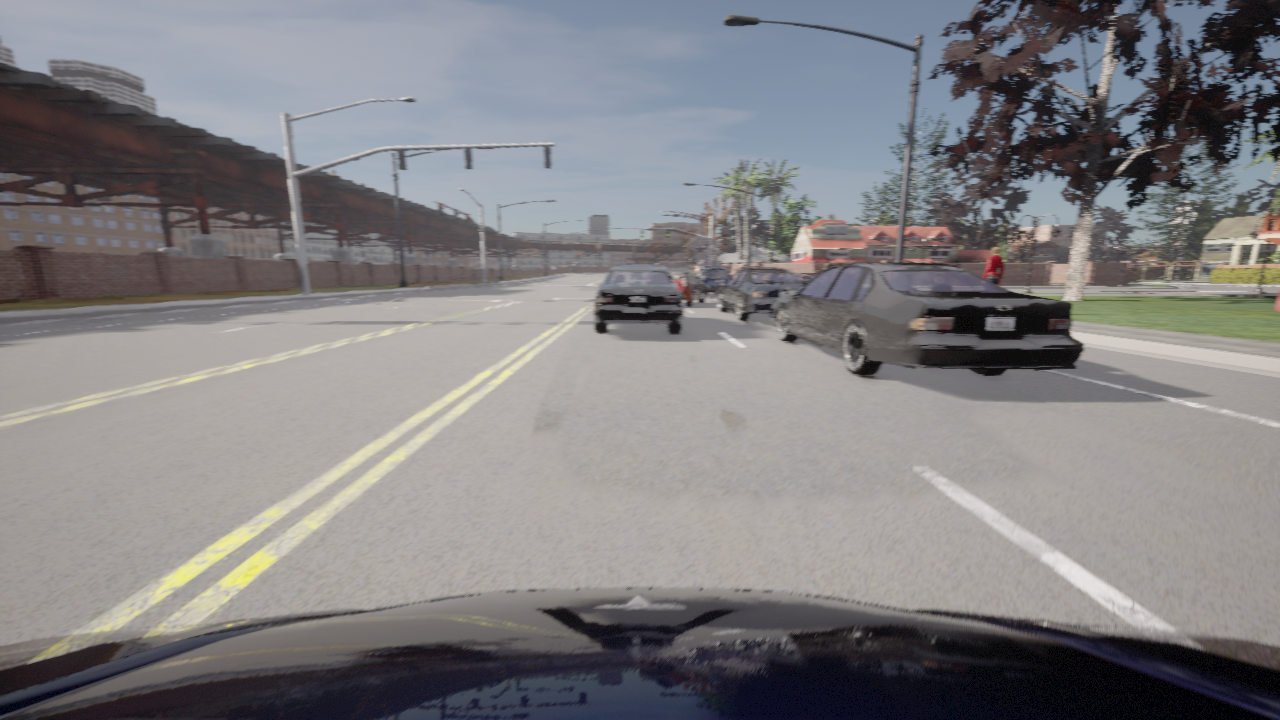cyclist: (0, 588, 1279, 719), (770, 261, 1084, 375), (594, 266, 682, 332), (716, 268, 806, 320), (663, 266, 707, 307), (697, 267, 731, 294), (794, 272, 814, 279), (801, 275, 811, 282)
pedestrian: (983, 246, 1003, 284), (824, 258, 831, 269)
